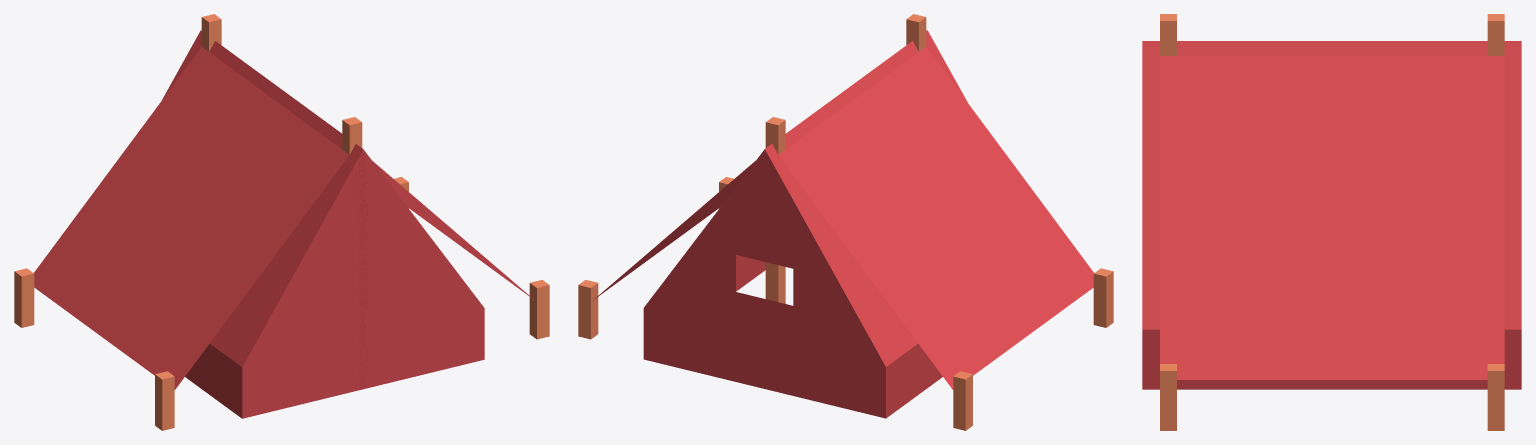
File: tent_detailedClosed.obj
3 views of the same model, side by side, from view 1: azimuth 30°, elevation 25°; view 2: azimuth 150°, elevation 25°; view 3: azimuth 270°, elevation 25° (orthographic). The views are drawn at different scales.
Parts seen in each view (by area): view 1: tent_detailedClosed; view 2: tent_detailedClosed; view 3: tent_detailedClosed.
Part boxes in pixels (x1,y1,x2,y2): tent_detailedClosed: (14, 14, 549, 430); tent_detailedClosed: (578, 14, 1113, 430); tent_detailedClosed: (1142, 14, 1521, 430).
Bounding box in the file's own units: 0.8749 × 0.5611 × 0.6364.
